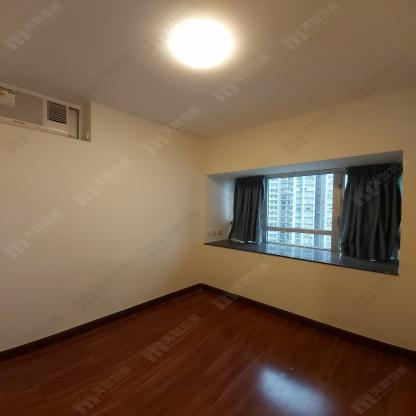AC: (0, 84, 69, 137)
Windowsill: (204, 149, 405, 278)
